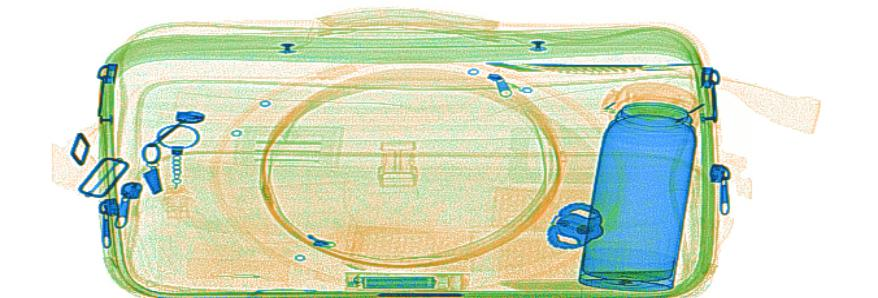battery: (358, 274, 435, 290)
